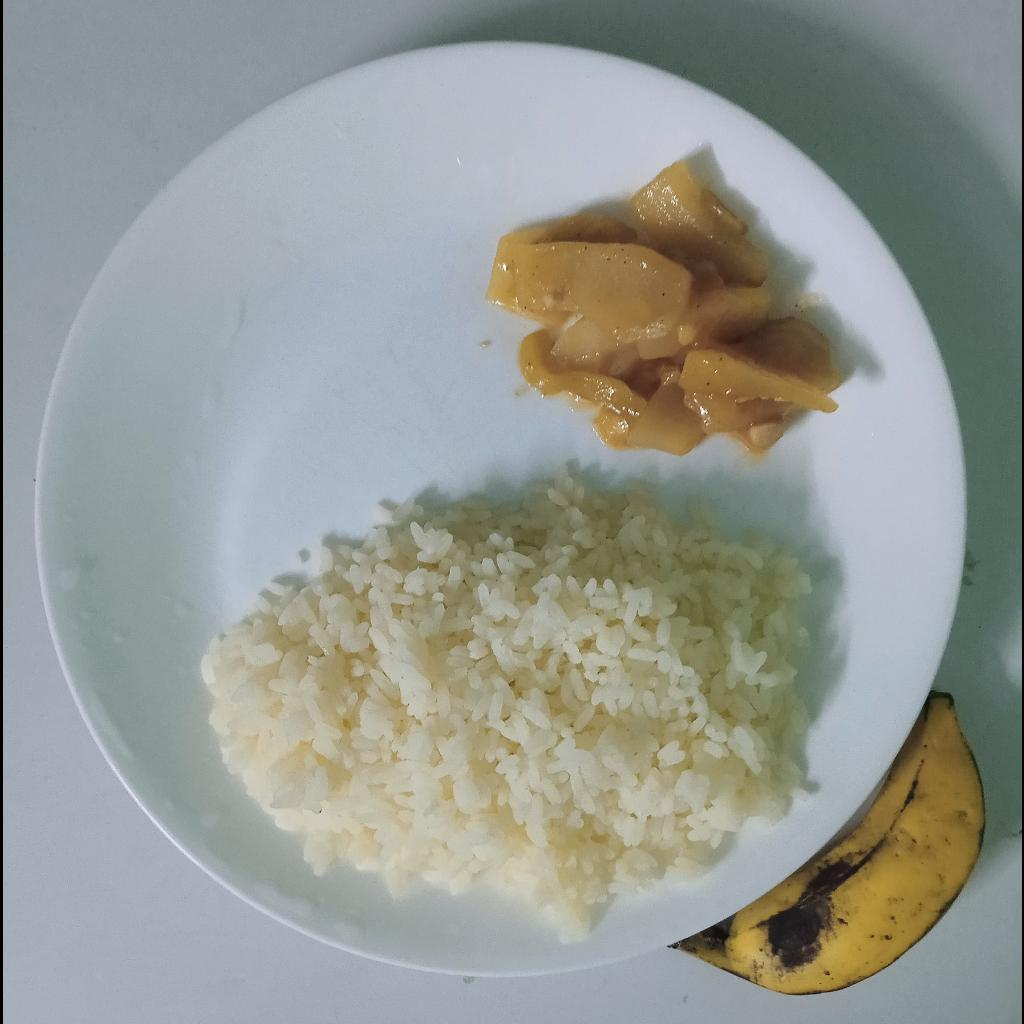banana: (669, 690, 982, 998)
lau: (483, 160, 843, 455)
rice: (205, 474, 806, 940)
